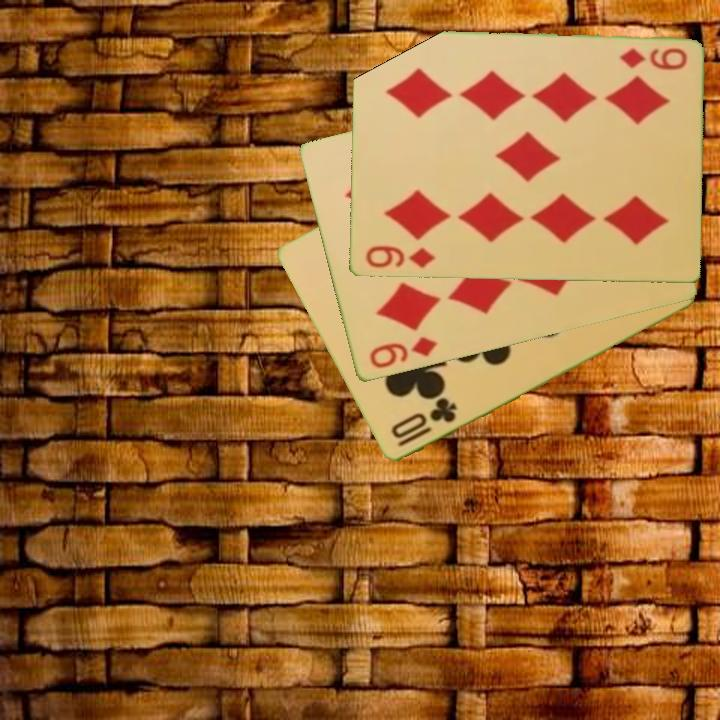10c: (387, 395, 460, 451)
9d: (365, 333, 440, 372), (362, 243, 438, 271), (616, 45, 689, 73)
